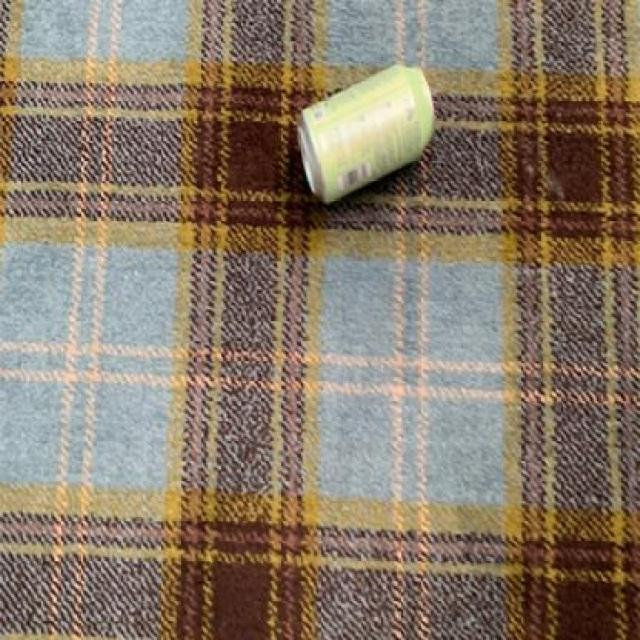Metal: (296, 61, 434, 206)
